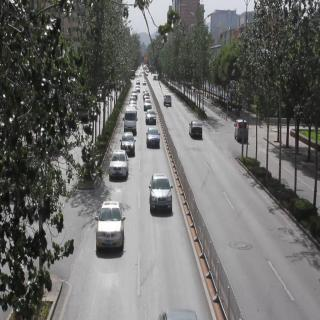Car: (99, 192, 120, 268), (151, 173, 174, 214), (231, 116, 252, 150), (142, 126, 166, 148), (110, 147, 128, 175), (186, 116, 203, 145), (122, 108, 140, 134), (163, 90, 175, 114), (147, 107, 158, 125)
